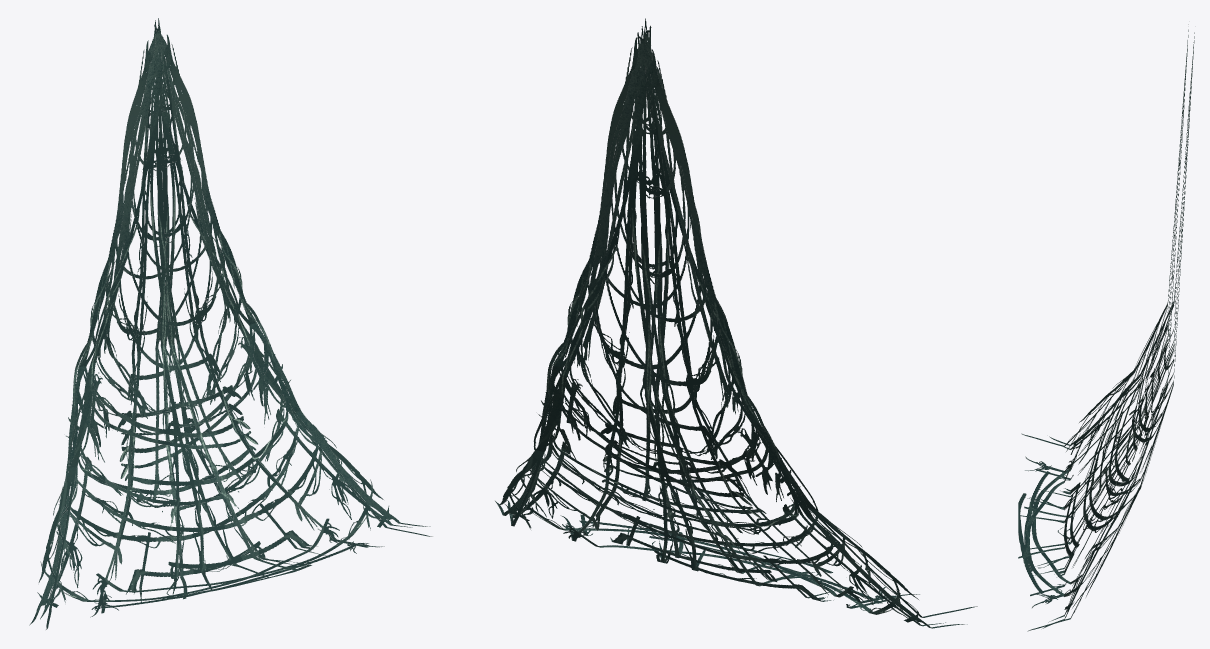
Rendered from Fish_net02.fbx.
3 renders of one model, left to right at view 1: azimuth 30°, elevation 25°; view 2: azimuth 150°, elevation 25°; view 3: azimuth 270°, elevation 25°, orthographic. The views are drawn at different scales.
Parts seen in each view (by area): view 1: Fish_net02; view 2: Fish_net02; view 3: Fish_net02.
Boxes of the visible parts, left/top/right/bottom form: Fish_net02: left=29, top=18, right=432, bottom=629; Fish_net02: left=495, top=18, right=977, bottom=628; Fish_net02: left=1018, top=24, right=1194, bottom=631.
Size of the model in its own units: 2 by 2.42 by 0.7464.
Materials: 1 (1 with a texture image).
